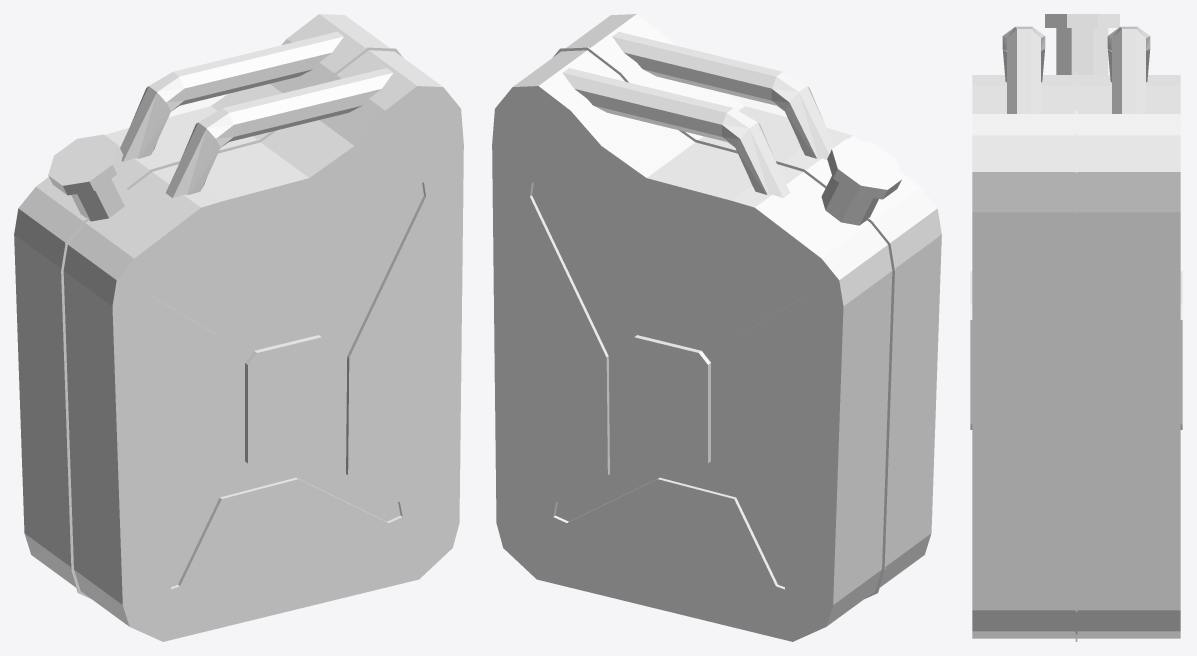
The model's file is Prop_Gas_Can_01.glb.
3 views of the same model, side by side, from view 1: azimuth 30°, elevation 25°; view 2: azimuth 150°, elevation 25°; view 3: azimuth 270°, elevation 25° (orthographic). The views are drawn at different scales.
Parts seen in each view (by area): view 1: Prop_Gas_Can_01; view 2: Prop_Gas_Can_01; view 3: Prop_Gas_Can_01.
Part boxes in pixels (bbox=[...]): Prop_Gas_Can_01: bbox=[14, 14, 463, 641]; Prop_Gas_Can_01: bbox=[492, 14, 941, 641]; Prop_Gas_Can_01: bbox=[970, 14, 1182, 641].
Size of the model in its own units: 0.3582 by 0.4761 by 0.1731.
1 material, 1 textured.
